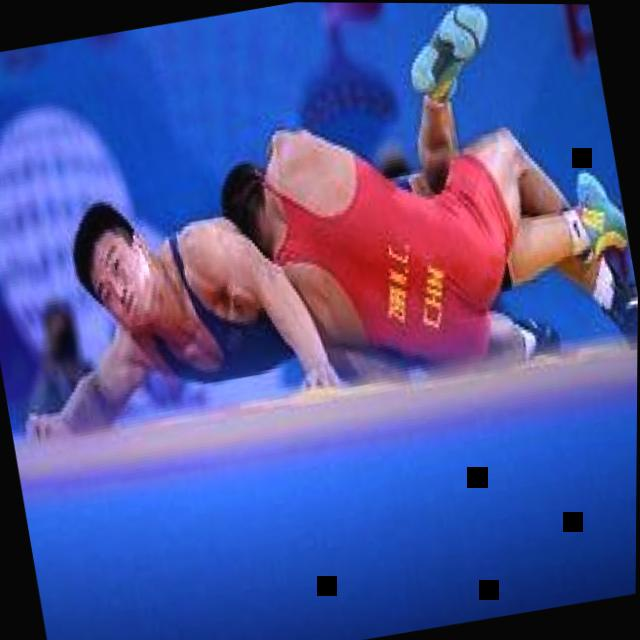Fall-Detected: (215, 1, 640, 414)
